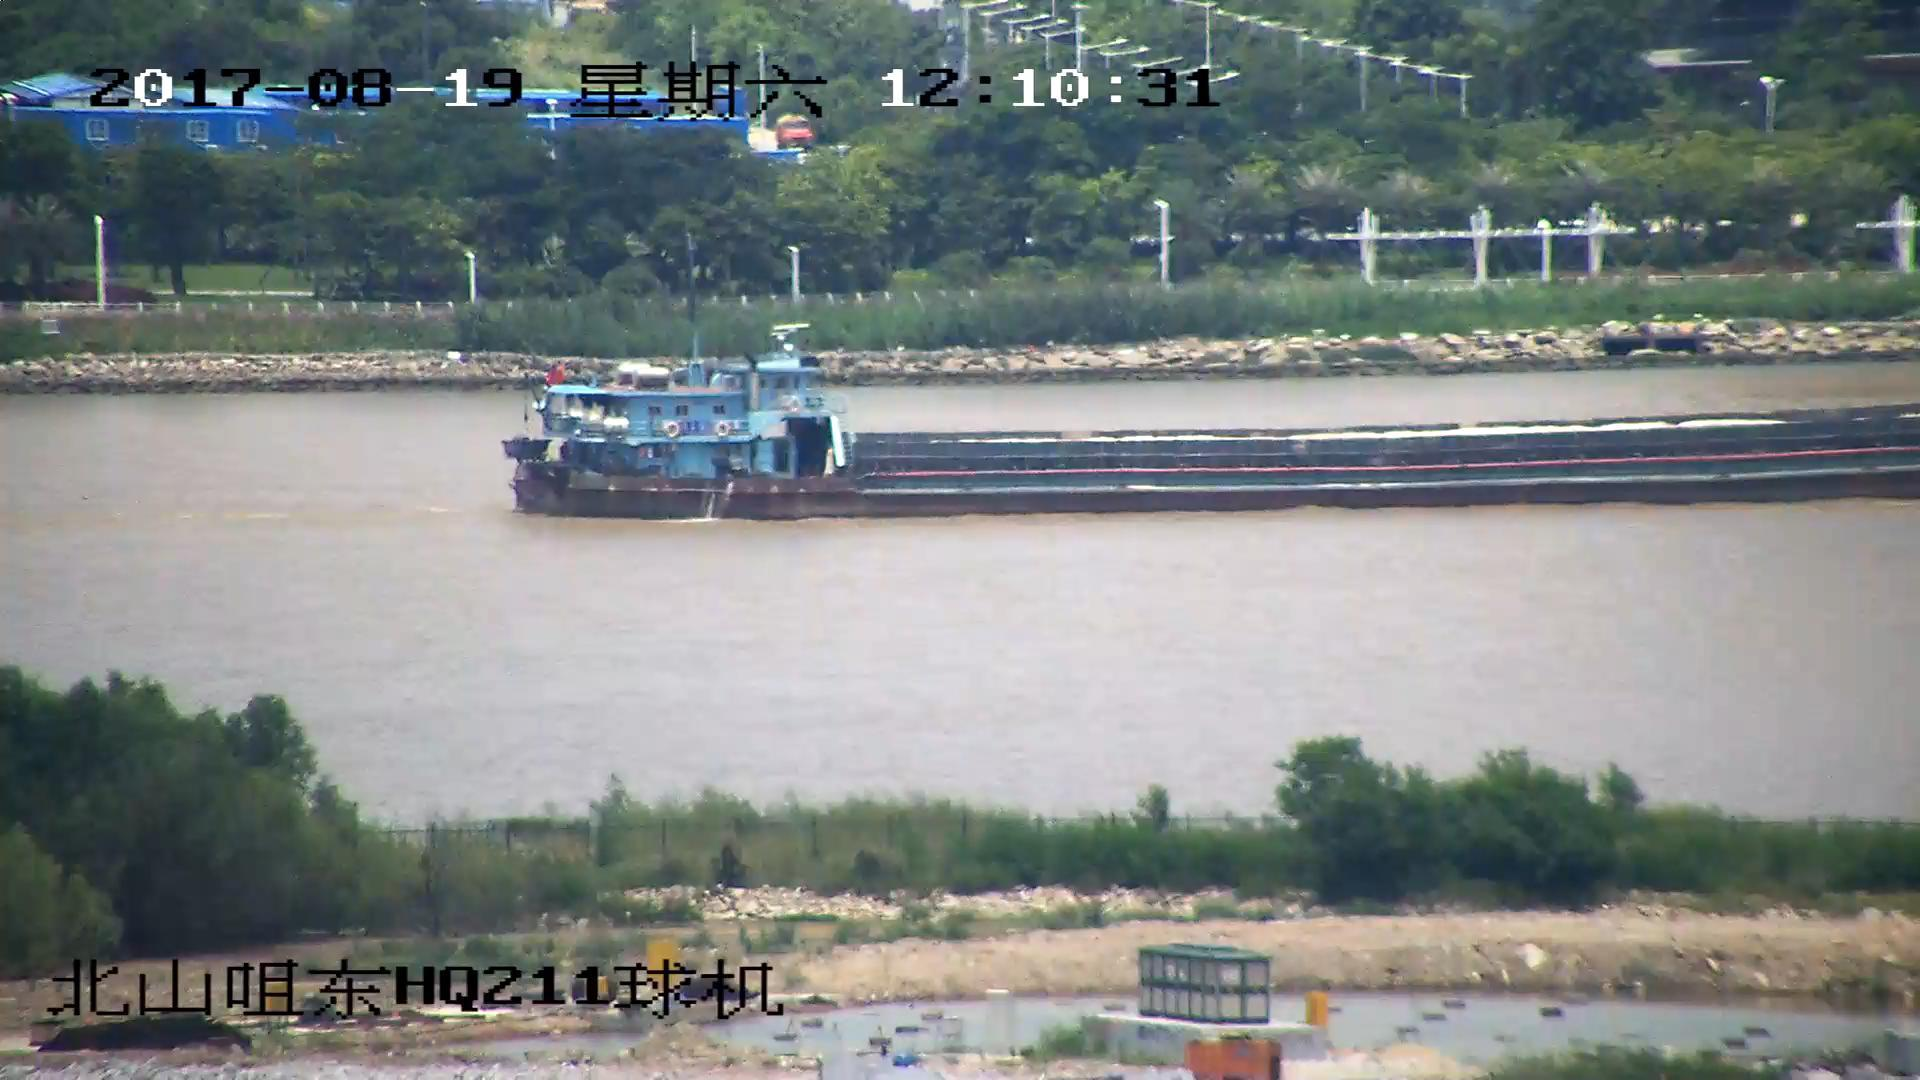Ship: (505, 315, 1920, 521)
